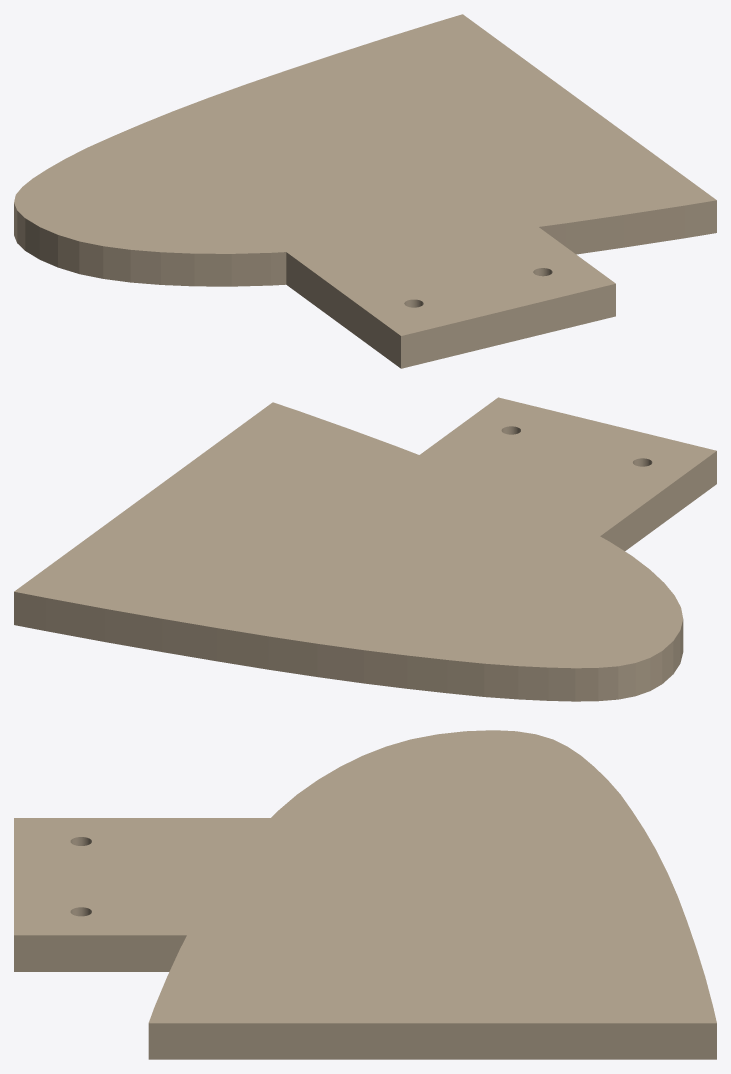
3 views of the same model, one above another, from view 1: azimuth 30°, elevation 25°; view 2: azimuth 150°, elevation 25°; view 3: azimuth 270°, elevation 25° (orthographic). The views are drawn at different scales.
Visible parts, largest first — view 1: geometry_0; view 2: geometry_0; view 3: geometry_0.
Part boxes in pixels (x1,y1,x2,y2): geometry_0: (14,14,716,368); geometry_0: (14,397,716,701); geometry_0: (14,730,716,1059).
Bounding box in the file's own units: 206 × 12 × 209.
